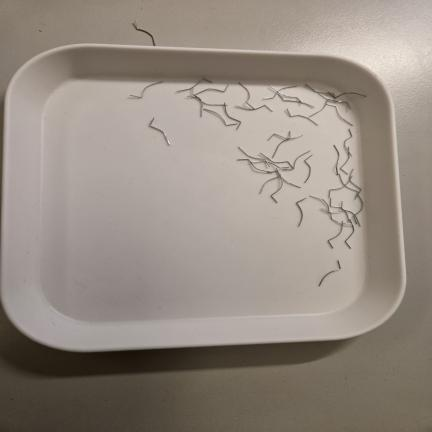probe: (130, 81, 163, 99), (149, 117, 170, 145), (319, 260, 341, 286), (296, 197, 306, 226), (304, 158, 311, 183), (309, 155, 313, 157)
